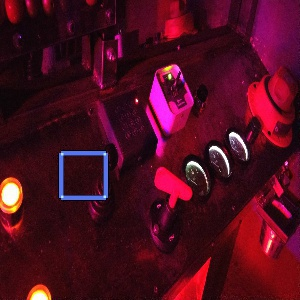square: (56, 149, 110, 202)
